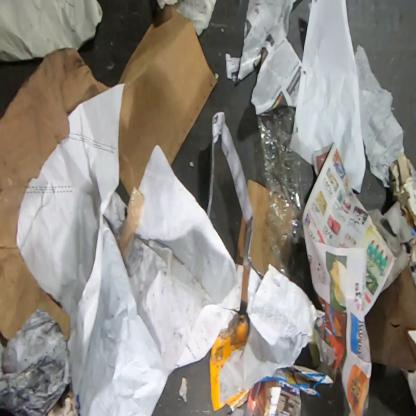cardboard: (0, 47, 112, 342), (117, 3, 218, 198), (364, 264, 415, 374), (244, 364, 335, 415), (209, 313, 250, 413), (247, 178, 278, 275), (389, 152, 415, 233), (234, 212, 247, 265), (241, 266, 249, 305)
soft_plastic: (258, 106, 314, 290)
